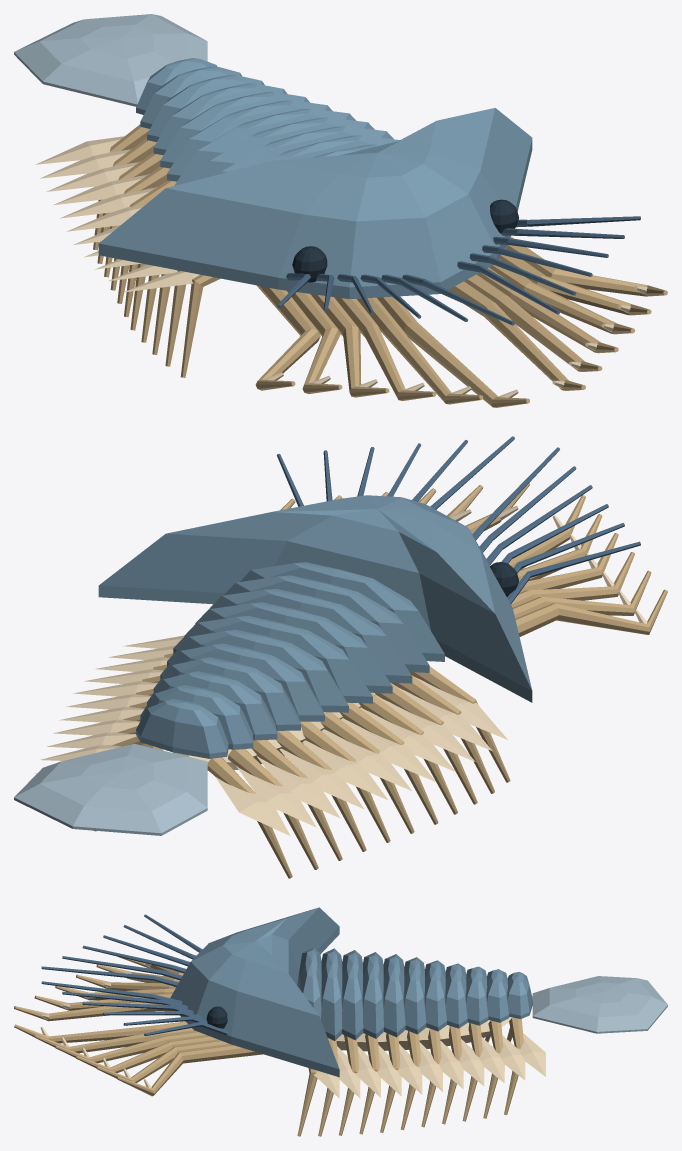
File: sanctacaris.glb
3 renders of one model, top to bottom at view 1: azimuth 30°, elevation 25°; view 2: azimuth 150°, elevation 25°; view 3: azimuth 270°, elevation 25°, orthographic. The views are drawn at different scales.
Parts seen in each view (by area): view 1: angular-winged-head, broad-paddle-telson, left-frontal-grasping-1, trunk-plate-05, trunk-plate-06, trunk-plate-04, left-frontal-grasping-6, left-frontal-grasping-2, right-frontal-grasping-1, right-frontal-grasping-2, trunk-plate-07, left-frontal-grasping-3 (+37 smaller); view 2: angular-winged-head, broad-paddle-telson, trunk-plate-11, trunk-plate-03, trunk-plate-02, trunk-plate-05, trunk-plate-01, trunk-plate-04, trunk-plate-06, trunk-plate-07, trunk-plate-08, trunk-plate-09 (+41 smaller); view 3: angular-winged-head, broad-paddle-telson, trunk-plate-02, trunk-plate-03, trunk-plate-04, trunk-plate-05, trunk-plate-06, right-frontal-grasping-6, trunk-plate-07, trunk-plate-08, ventral-body, right-frontal-grasping-1 (+46 smaller).
Boxes of the visible parts, x1,y1,x2,y2 form: angular-winged-head: [98, 108, 532, 299]; broad-paddle-telson: [14, 14, 207, 106]; left-frontal-grasping-1: [377, 296, 529, 407]; trunk-plate-05: [174, 109, 356, 185]; trunk-plate-06: [167, 100, 332, 181]; trunk-plate-04: [197, 117, 374, 179]; left-frontal-grasping-6: [255, 285, 320, 390]; left-frontal-grasping-2: [357, 297, 483, 404]; right-frontal-grasping-1: [448, 281, 585, 390]; right-frontal-grasping-2: [464, 274, 602, 371]; trunk-plate-07: [160, 92, 309, 168]; left-frontal-grasping-3: [334, 297, 436, 400]; angular-winged-head: [98, 495, 532, 702]; broad-paddle-telson: [14, 743, 207, 835]; trunk-plate-11: [136, 699, 228, 758]; trunk-plate-03: [195, 589, 412, 683]; trunk-plate-02: [224, 575, 429, 672]; trunk-plate-05: [173, 616, 372, 703]; trunk-plate-01: [240, 562, 444, 661]; trunk-plate-04: [184, 602, 392, 693]; trunk-plate-06: [167, 629, 348, 712]; trunk-plate-07: [160, 643, 324, 721]; trunk-plate-08: [153, 657, 300, 730]; trunk-plate-09: [147, 671, 277, 740]; angular-winged-head: [170, 907, 339, 1077]; broad-paddle-telson: [532, 976, 667, 1033]; trunk-plate-02: [321, 948, 342, 1040]; trunk-plate-03: [342, 950, 363, 1040]; trunk-plate-04: [363, 952, 383, 1038]; trunk-plate-05: [383, 954, 405, 1037]; trunk-plate-06: [404, 957, 426, 1034]; right-frontal-grasping-6: [117, 1045, 262, 1096]; trunk-plate-07: [425, 960, 446, 1031]; trunk-plate-08: [445, 963, 467, 1028]; ventral-body: [336, 1017, 512, 1051]; right-frontal-grasping-1: [14, 1021, 187, 1043].
Bounding box in the file's own units: 0.052 × 0.024 × 0.1005.
